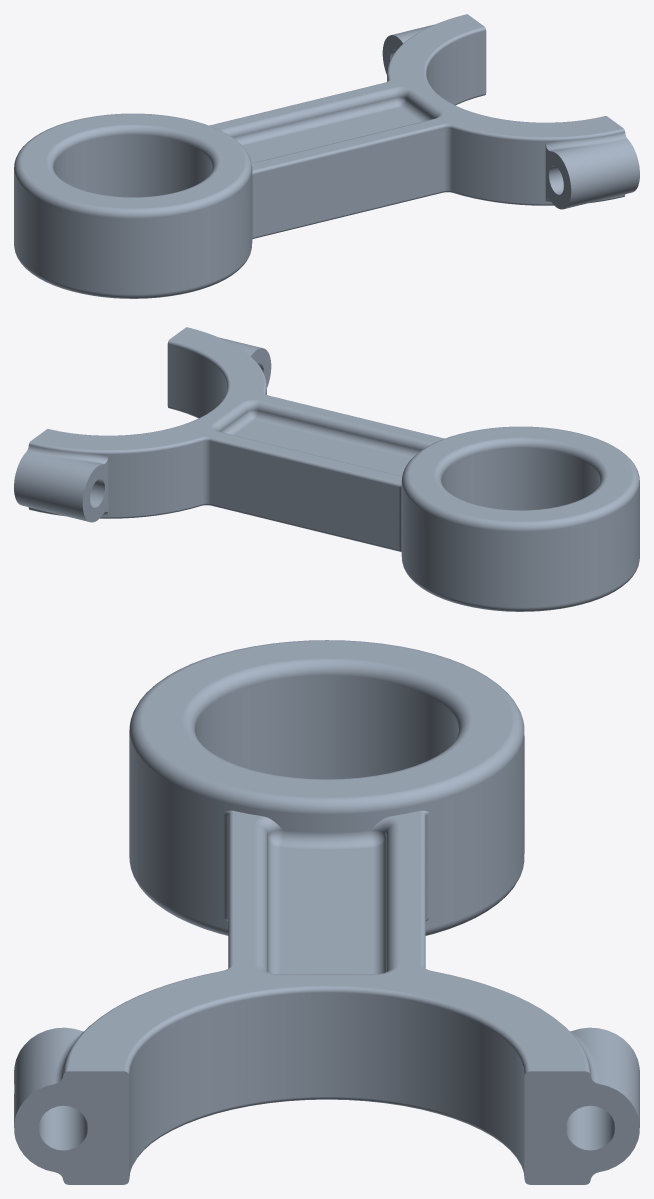
The model's file is articulated_rod_upper.obj.
The picture shows the model from 3 angles, top to bottom: view 1: azimuth 30°, elevation 25°; view 2: azimuth 150°, elevation 25°; view 3: azimuth 270°, elevation 25°; orthographic projection. The views are drawn at different scales.
Parts seen in each view (by area): view 1: 1; view 2: 1; view 3: 1.
Boxes of the visible parts, x1,y1,x2,y2 form: 1: [14, 14, 639, 298]; 1: [14, 327, 639, 611]; 1: [14, 640, 639, 1184].
Bounding box in the file's own units: 190 × 31.75 × 121.
